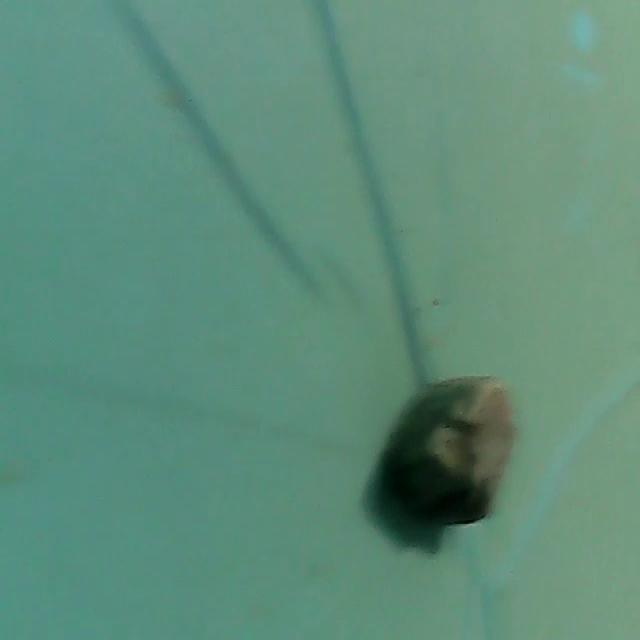rock: (381, 360, 516, 535)
